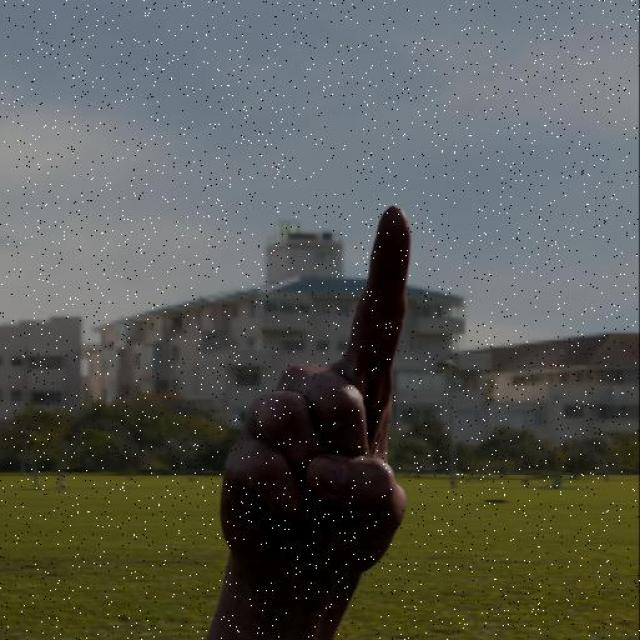Z: (218, 201, 414, 580)
